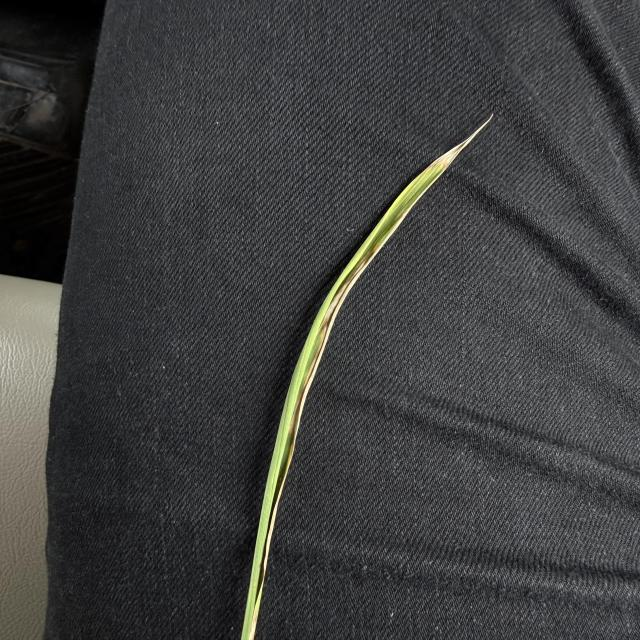Chay bia la: (288, 242, 384, 439), (412, 115, 493, 181)
